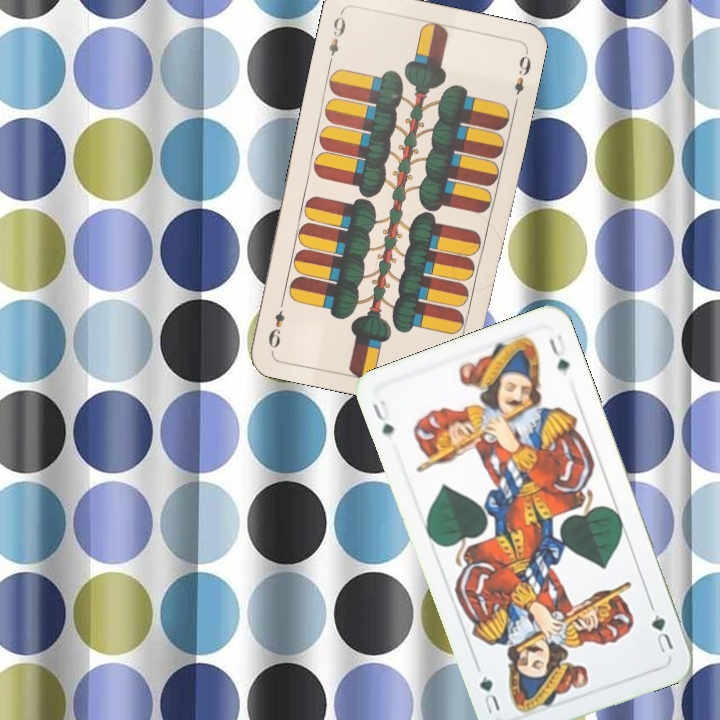E9: (324, 8, 348, 67)
GU: (647, 610, 677, 656), (368, 395, 397, 438)
